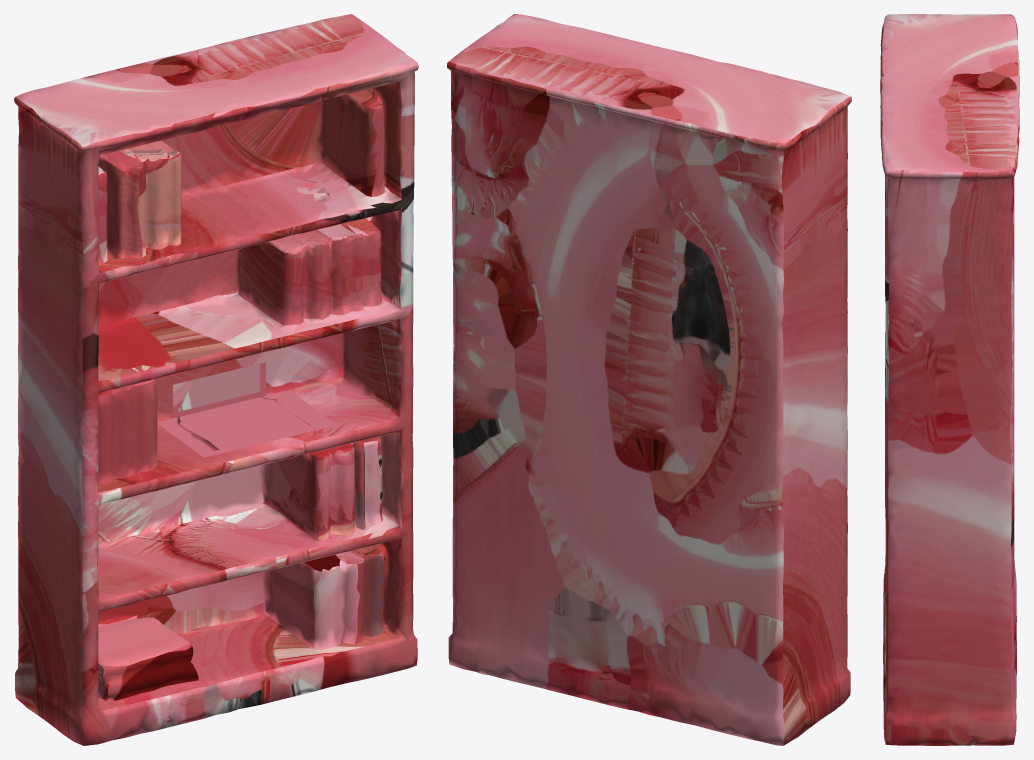
File: VAR_Bedroom_Bookshelf.fbx
3 renders of one model, left to right at view 1: azimuth 30°, elevation 25°; view 2: azimuth 150°, elevation 25°; view 3: azimuth 270°, elevation 25°, orthographic. The views are drawn at different scales.
Visible parts, largest first — view 1: texture_mapping; view 2: texture_mapping; view 3: texture_mapping.
Boxes of the visible parts, x1,y1,x2,y2 form: texture_mapping: (14,14,418,745); texture_mapping: (447,14,851,745); texture_mapping: (880,14,1019,745).
Bounding box in the file's own units: 58.79 × 99.94 × 21.77.
